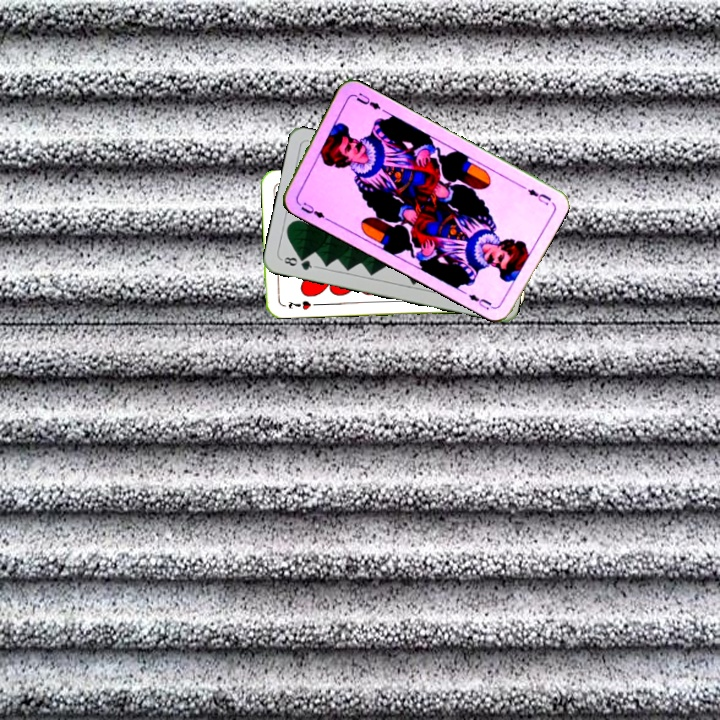EU: (297, 198, 331, 223), (523, 185, 554, 208)
G8: (278, 253, 318, 273)
H7: (284, 296, 313, 312)
